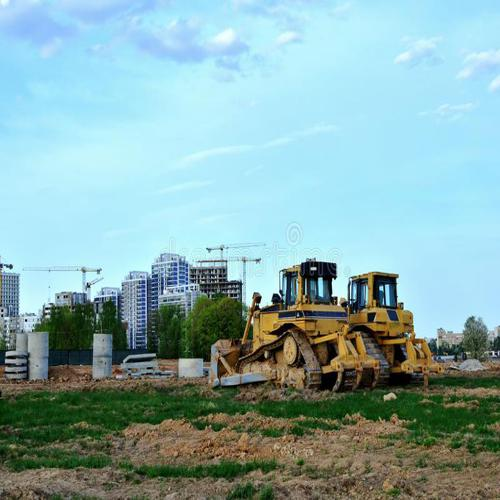con_eq: (215, 256, 354, 397), (344, 266, 449, 397)
